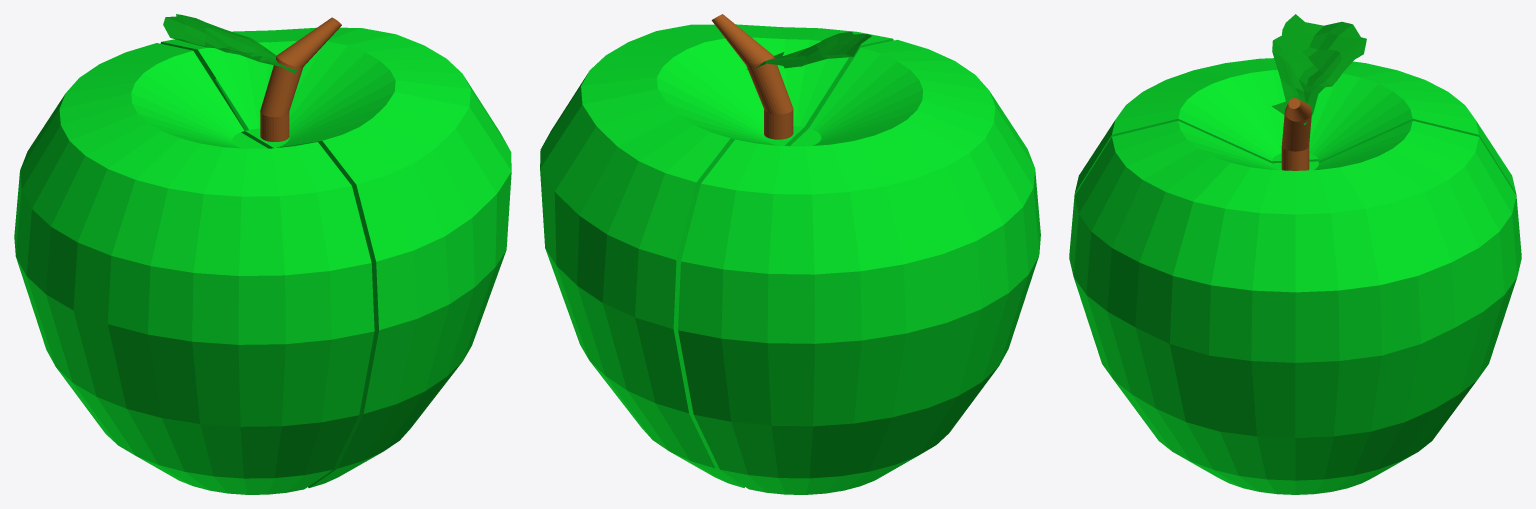
The model's file is apple.fbx.
The picture shows the model from 3 angles, left to right: view 1: azimuth 30°, elevation 25°; view 2: azimuth 150°, elevation 25°; view 3: azimuth 270°, elevation 25°; orthographic projection. The views are drawn at different scales.
Parts seen in each view (by area): view 1: Cylinder.002, Cylinder, Cylinder.001, Plane.001; view 2: Cylinder.002, Cylinder, Cylinder.001, Plane.001; view 3: Cylinder, Cylinder.002, Plane.001, Cylinder.001.
Part boxes in pixels (box(x1,y1,x2,y2)): Cylinder.002: box(14, 43, 374, 494); Cylinder: box(160, 27, 511, 487); Cylinder.001: box(260, 17, 341, 141); Plane.001: box(163, 14, 274, 65); Cylinder.002: box(678, 39, 1040, 494); Cylinder: box(540, 24, 893, 487); Cylinder.001: box(711, 14, 793, 139); Plane.001: box(764, 31, 871, 68); Cylinder: box(1069, 120, 1521, 494); Cylinder.002: box(1069, 58, 1521, 254); Plane.001: box(1272, 14, 1366, 95); Cylinder.001: box(1281, 98, 1311, 170).
Bounding box in the file's own units: 389 × 368 × 372.
